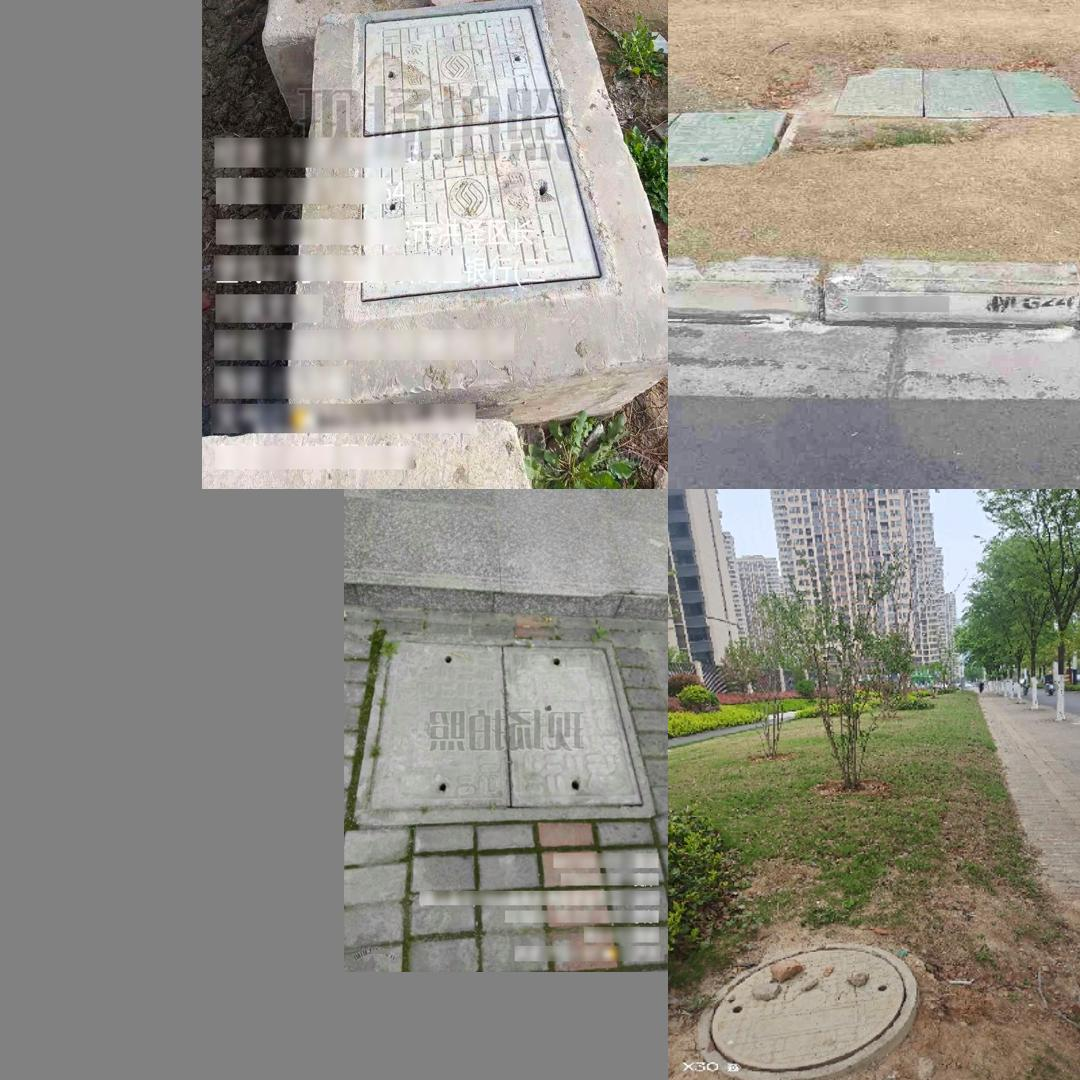good: (353, 0, 617, 311), (352, 633, 656, 824), (696, 941, 921, 1080), (833, 61, 1080, 119), (668, 109, 802, 166)
